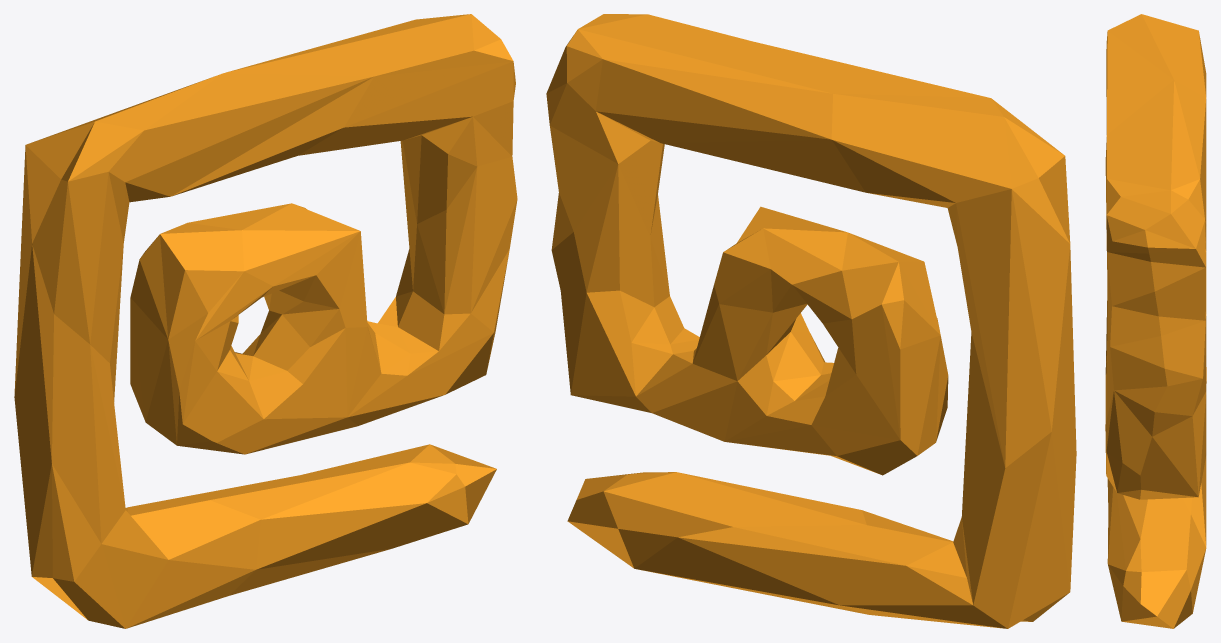
The model's file is SM_Icon_Number_At_01.fbx.
3 renders of one model, left to right at view 1: azimuth 30°, elevation 25°; view 2: azimuth 150°, elevation 25°; view 3: azimuth 270°, elevation 25°, orthographic. The views are drawn at different scales.
Parts seen in each view (by area): view 1: SM_Icon_Number_At_01; view 2: SM_Icon_Number_At_01; view 3: SM_Icon_Number_At_01.
Part boxes in pixels (box(x1,y1,x2,y2)): SM_Icon_Number_At_01: box(14, 14, 517, 628); SM_Icon_Number_At_01: box(546, 14, 1076, 628); SM_Icon_Number_At_01: box(1105, 14, 1206, 628).
Bounding box in the file's own units: 53.76 × 53.38 × 10.62.
